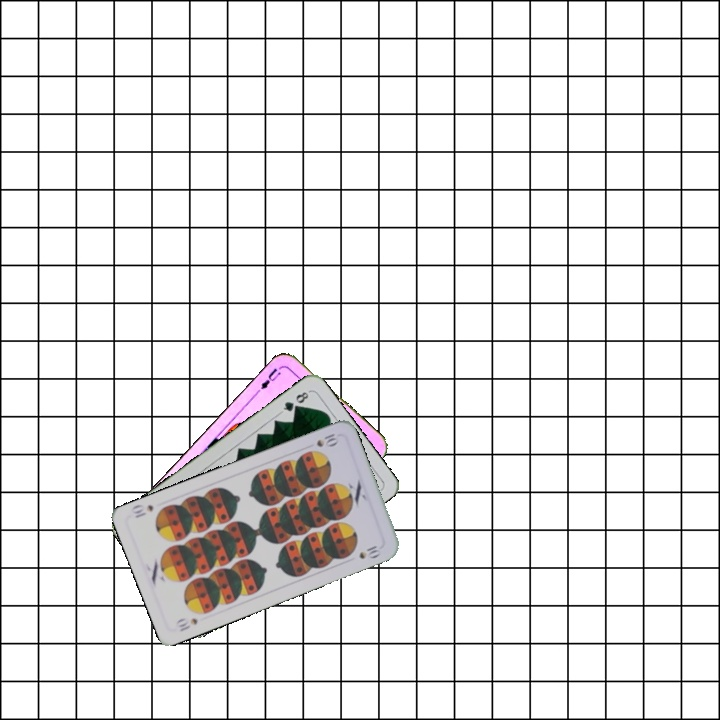EU: (256, 362, 285, 392)
G8: (277, 387, 312, 416)
S10: (312, 428, 341, 450), (172, 614, 201, 634)
